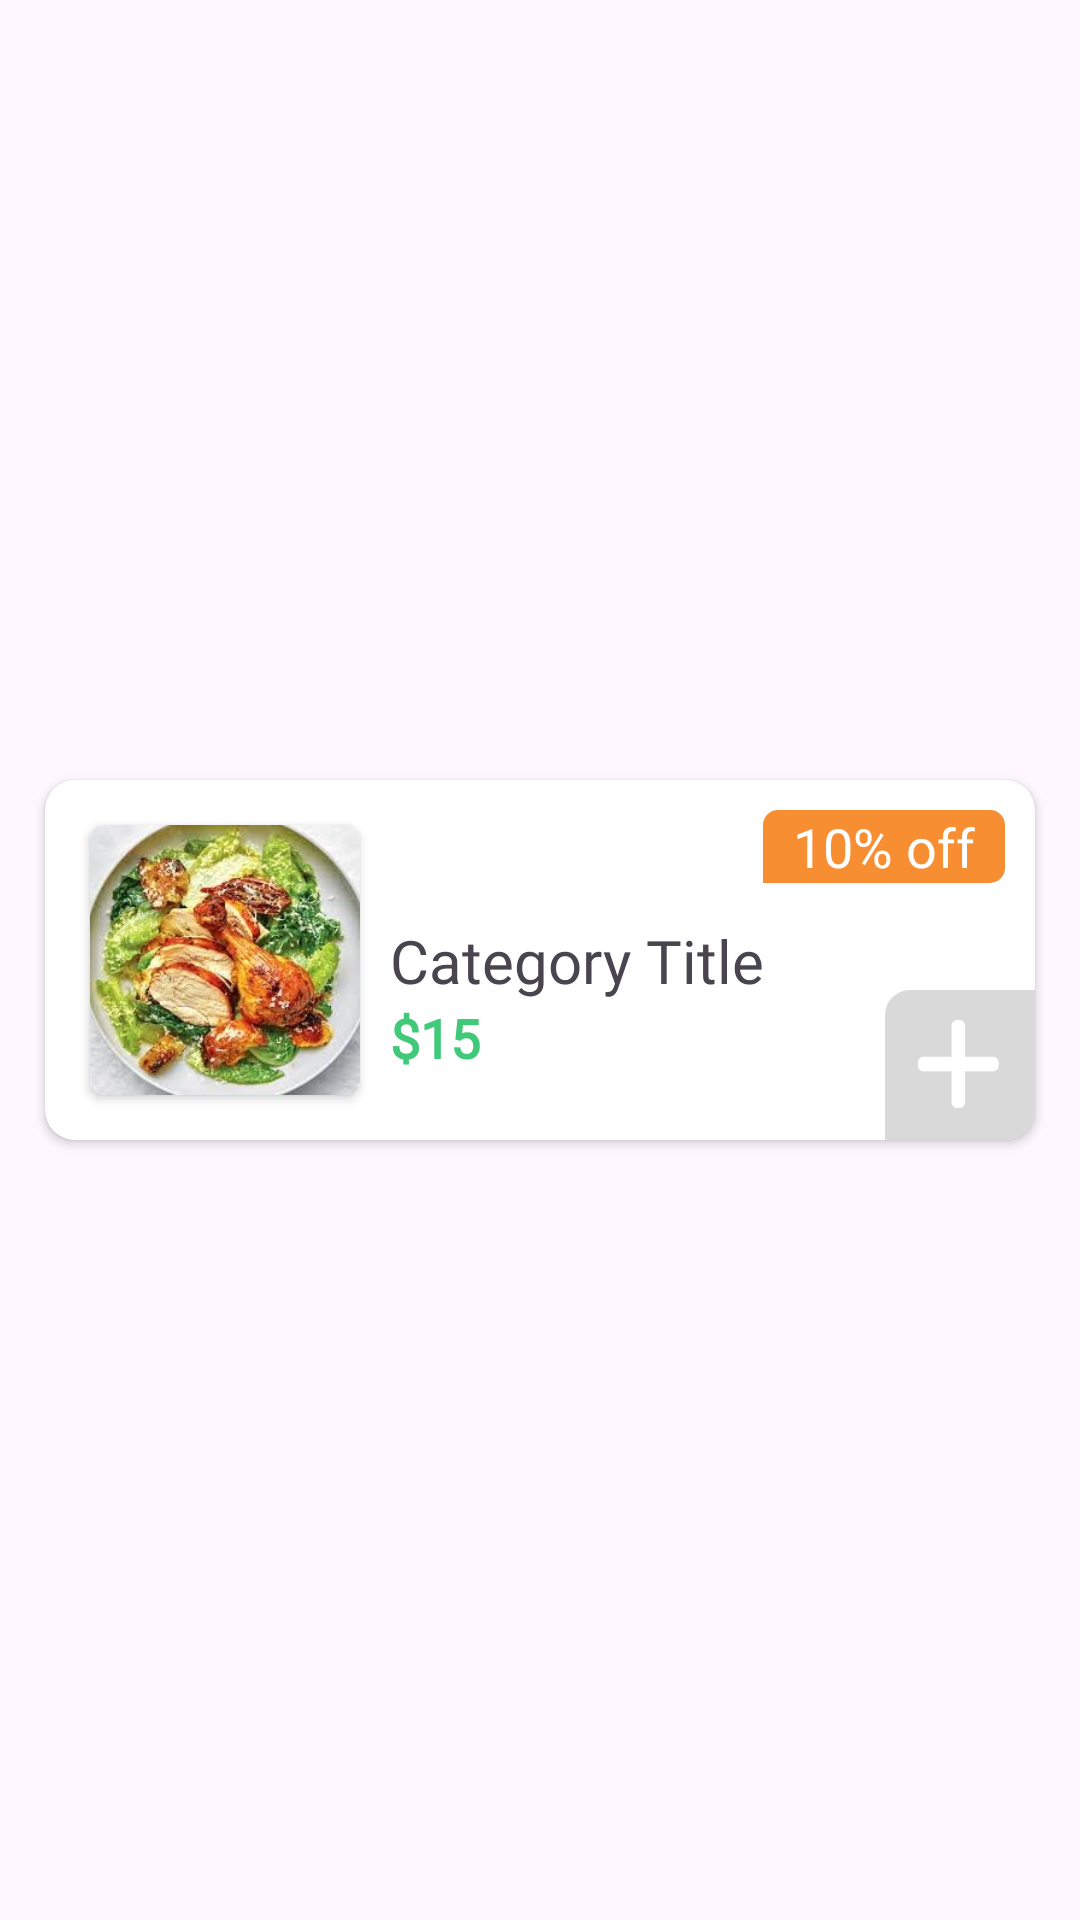

Named icons in this screenshot (1080*1920) and their centers, (x=x, y=y):
plus: (x=958, y=1064)
